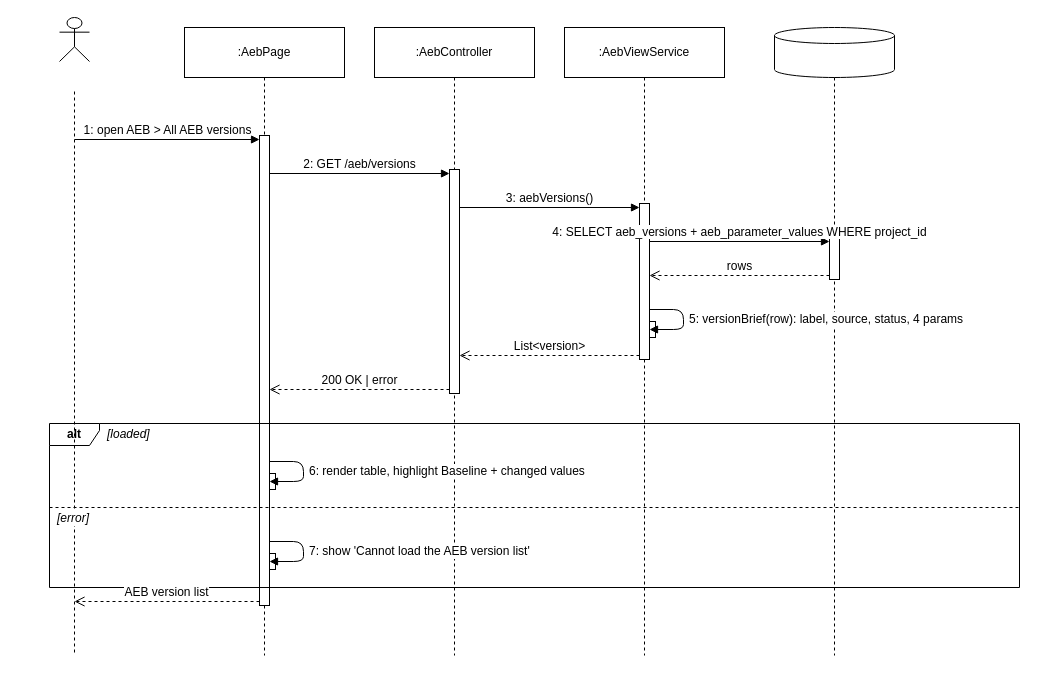
Image size: 1038x674. Some labels were removed from this diagram. Each missing label, with the centre of its shape:
"Engineer / Reviewer / Experiencer" belongs at [74,39].
"MySQL" belongs at [834,52].
